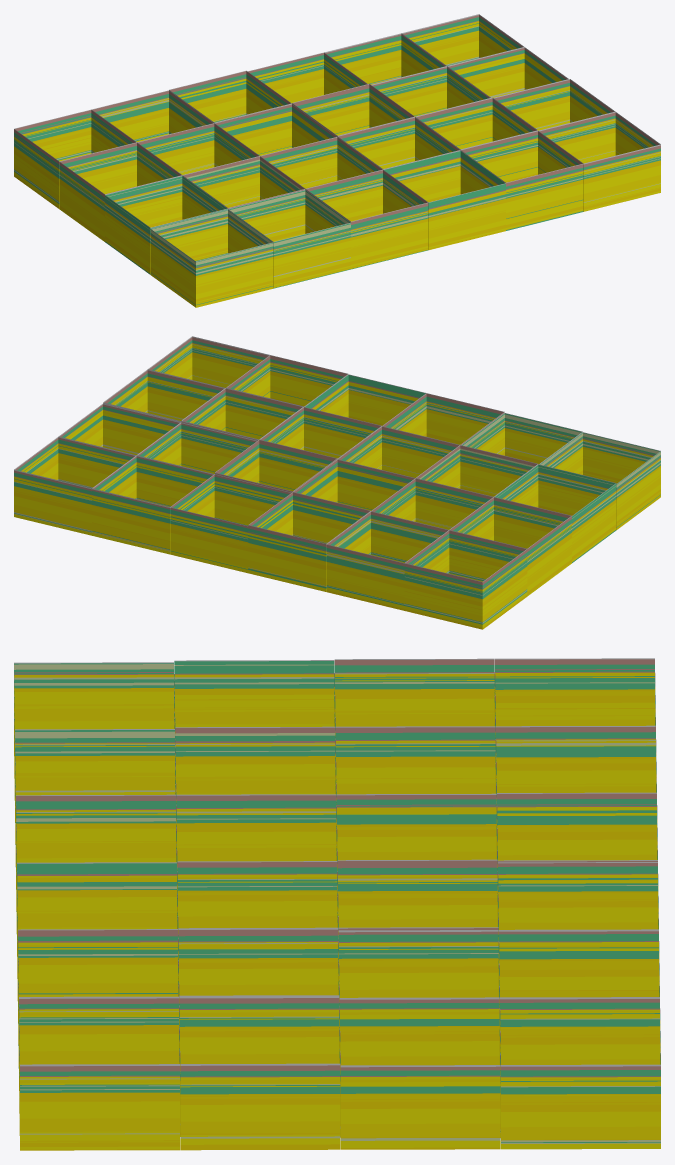
3 views of the same model, one above another, from view 1: azimuth 30°, elevation 25°; view 2: azimuth 150°, elevation 25°; view 3: azimuth 270°, elevation 25° (orthographic). The views are drawn at different scales.
Visible parts, largest first — view 1: mesh; view 2: mesh; view 3: mesh.
Boxes of the visible parts, x1=… form: mesh: x1=14, y1=14, x2=660, y2=307; mesh: x1=14, y1=336, x2=660, y2=629; mesh: x1=14, y1=658, x2=660, y2=1150.
Size of what is drawn, in the model's own units: 983 by 98 by 661.
